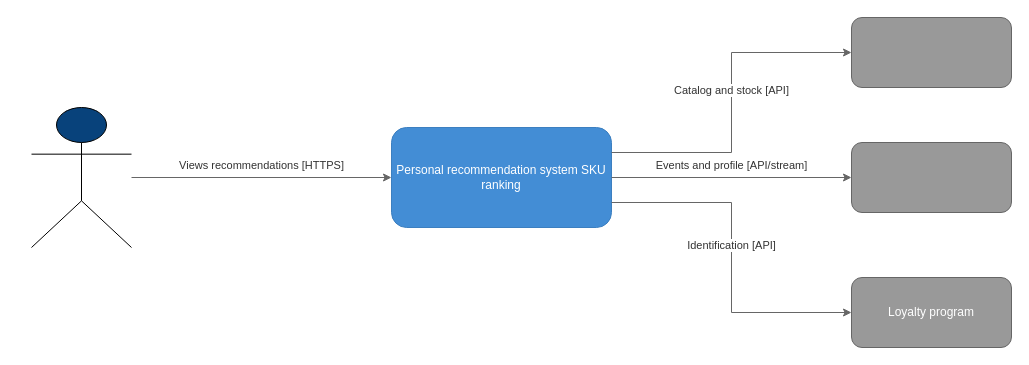
Image size: 1029x365. Some labels were removed from this diagram. The shapes that lost their labels are listed below. From the top down, each one's box as (x1, y1, x2, y2) in pixels, then its label:
(850, 16, 1012, 88): PIM Catalog, SKU
(850, 142, 1012, 212): CDP / CRM Profile, events
